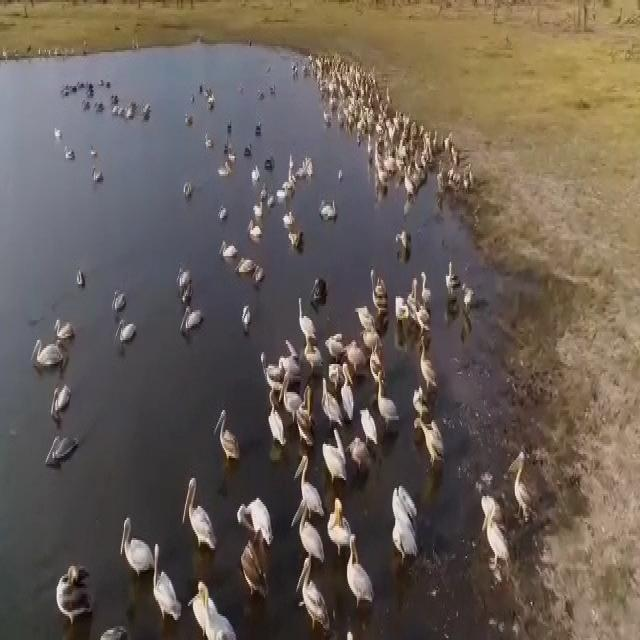Swan: (242, 500, 274, 592), (47, 570, 103, 622), (344, 529, 376, 616), (297, 558, 334, 632), (116, 503, 155, 573), (393, 486, 424, 573), (184, 482, 219, 556), (476, 495, 508, 575), (193, 586, 240, 640), (151, 539, 181, 619), (37, 429, 90, 471), (510, 452, 540, 524), (215, 397, 246, 463), (414, 414, 449, 468), (27, 325, 64, 376), (295, 456, 323, 516), (293, 277, 316, 348), (356, 312, 382, 373), (295, 505, 323, 560), (416, 347, 441, 405), (330, 502, 356, 556), (327, 432, 349, 492), (266, 390, 286, 455), (373, 377, 397, 430), (318, 385, 344, 432), (339, 366, 358, 430), (384, 109, 408, 158), (351, 425, 375, 472), (176, 300, 208, 334), (49, 304, 80, 338), (47, 383, 74, 421), (419, 257, 435, 320), (372, 139, 391, 190), (366, 279, 391, 314), (235, 293, 258, 331), (466, 163, 483, 213), (219, 230, 242, 266), (397, 279, 416, 322), (262, 343, 284, 380), (400, 162, 419, 204), (279, 381, 300, 418), (176, 259, 192, 305), (243, 256, 265, 288), (304, 339, 327, 368), (72, 259, 92, 292), (447, 259, 458, 313), (120, 322, 139, 353), (319, 96, 340, 124), (284, 159, 302, 191), (178, 179, 195, 212), (438, 156, 449, 205), (462, 283, 475, 318), (92, 166, 110, 189), (318, 202, 339, 221), (398, 228, 413, 254), (247, 223, 263, 247), (216, 159, 232, 183), (111, 293, 133, 310), (51, 119, 65, 145), (451, 135, 462, 165), (250, 204, 268, 220), (410, 390, 422, 410), (284, 216, 298, 229), (64, 146, 76, 160)
